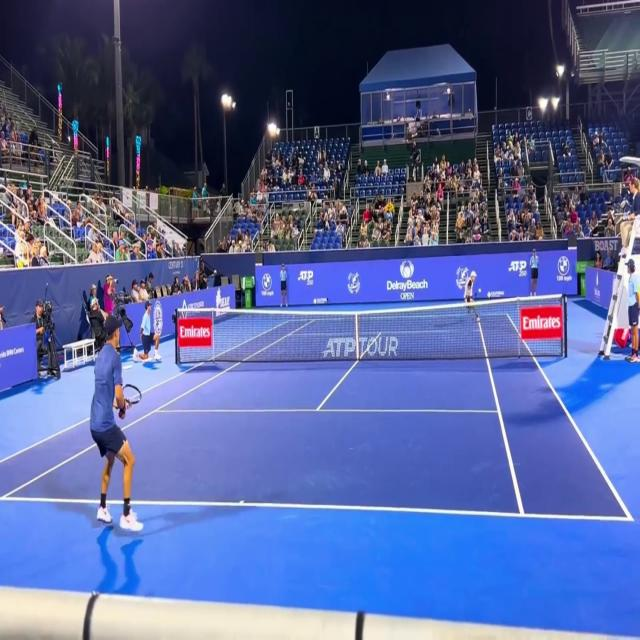tennisBall: (478, 286, 482, 297)
